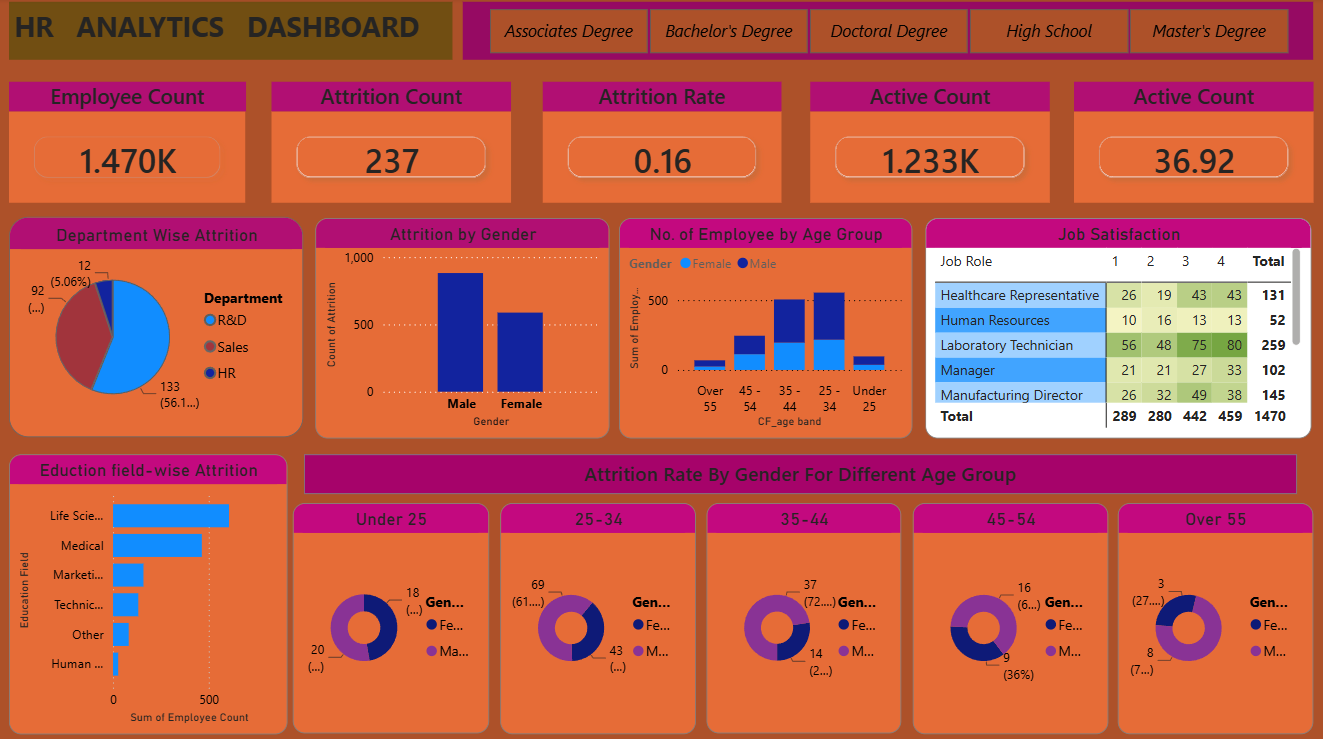

The page's visual inventory and layout, read from the dashboard file:
{"tool":"powerbi","page":{"name":"Page 1","canvas":[1280,720],"ordinal":0},"visuals":[{"type":"cardVisual","title":"Employee Count","fields":{"Data":["Sum(HR data.Employee Count)"]},"box":[10,81.4,228.6,117.1],"z":0},{"type":"cardVisual","title":"Attrition Count","fields":{"Data":["Sum(HR data.Attrition count)"]},"box":[262.9,81.4,231.4,117.1],"z":1000},{"type":"cardVisual","title":"Active Count","fields":{"Data":["HR data.Active Count"]},"box":[782.9,81.4,231.4,117.1],"z":2000},{"type":"cardVisual","title":"Attrition Rate","fields":{"Data":["HR data.Attrition Rate"]},"box":[524.3,81.4,230,117.1],"z":3000},{"type":"cardVisual","title":"Active Count","fields":{"Data":["Avg(HR data.Age)"]},"box":[1037.1,81.4,231.4,117.1],"z":4000},{"type":"pieChart","title":"Department Wise Attrition ","fields":{"Category":["HR data.Department"],"Y":["Sum(HR data.Attrition count)"]},"box":[10,211.4,284.3,212.9],"z":5000},{"type":"clusteredColumnChart","title":"Attrition by Gender","fields":{"Y":["CountNonNull(HR data.Attrition)"],"Category":["HR data.Gender"]},"box":[305.7,212.9,284.3,212.9],"z":6000},{"type":"columnChart","title":"No. of Employee by Age Group","fields":{"Category":["HR data.CF_age band"],"Y":["Sum(HR data.Employee Count)"],"Series":["HR data.Gender"]},"box":[598.6,212.9,282.9,212.9],"z":7000},{"type":"pivotTable","title":"Job Satisfaction","fields":{"Rows":["HR data.Job Role"],"Columns":["HR data.Job Satisfaction"],"Values":["Sum(HR data.Employee Count)"]},"box":[894.3,212.9,372.9,212.9],"z":8000},{"type":"barChart","title":"Eduction field-wise Attrition","fields":{"Category":["HR data.Education Field"],"Y":["Sum(HR data.Employee Count)"]},"box":[10,440,268.6,270],"z":9000},{"type":"donutChart","title":"Under 25","fields":{"Category":["HR data.Gender"],"Y":["Sum(HR data.Attrition count)"],"Series":["HR data.CF_age band"]},"box":[284,487.1,189.4,222.3],"z":10000},{"type":"donutChart","title":"25-34","fields":{"Category":["HR data.Gender"],"Y":["Sum(HR data.Attrition count)"],"Series":["HR data.CF_age band"]},"box":[484.3,487.1,188.6,222.9],"z":11000},{"type":"donutChart","title":" 35-44","fields":{"Category":["HR data.Gender"],"Y":["Sum(HR data.Attrition count)"],"Series":["HR data.CF_age band"]},"box":[683.4,487.1,188,222.3],"z":12000},{"type":"donutChart","title":"45-54","fields":{"Category":["HR data.Gender"],"Y":["Sum(HR data.Attrition count)"],"Series":["HR data.CF_age band"]},"box":[881.4,487.1,188.6,222.9],"z":13000},{"type":"donutChart","title":"Over 55","fields":{"Category":["HR data.Gender"],"Y":["Sum(HR data.Attrition count)"],"Series":["HR data.CF_age band"]},"box":[1080,487.1,188.6,222.9],"z":14000},{"type":"textbox","box":[294.3,440,958.6,38.6],"z":15000},{"type":"textbox","box":[9.6,4.1,428.1,56.3],"z":16000},{"type":"slicer","fields":{"Values":["HR data.Education"]},"box":[447.3,4.1,820.6,56.3],"z":17000}]}

Visuals, with their boxes in screenshot pixels (x1, y1, x2, y2), scaled from the page's 1280x720 canvas onto the 1323x739 screenshot:
"Employee Count" cardVisual: crop(10, 84, 247, 204)
"Attrition Count" cardVisual: crop(272, 84, 511, 204)
"Active Count" cardVisual: crop(809, 84, 1048, 204)
"Attrition Rate" cardVisual: crop(542, 84, 780, 204)
"Active Count" cardVisual: crop(1072, 84, 1311, 204)
"Department Wise Attrition " pieChart: crop(10, 217, 304, 435)
"Attrition by Gender" clusteredColumnChart: crop(316, 219, 610, 437)
"No. of Employee by Age Group" columnChart: crop(619, 219, 911, 437)
"Job Satisfaction" pivotTable: crop(924, 219, 1310, 437)
"Eduction field-wise Attrition" barChart: crop(10, 452, 288, 729)
"Under 25" donutChart: crop(294, 500, 489, 728)
"25-34" donutChart: crop(501, 500, 696, 729)
" 35-44" donutChart: crop(706, 500, 901, 728)
"45-54" donutChart: crop(911, 500, 1106, 729)
"Over 55" donutChart: crop(1116, 500, 1311, 729)
textbox: crop(304, 452, 1295, 491)
textbox: crop(10, 4, 452, 62)
slicer - HR data.Education: crop(462, 4, 1310, 62)
